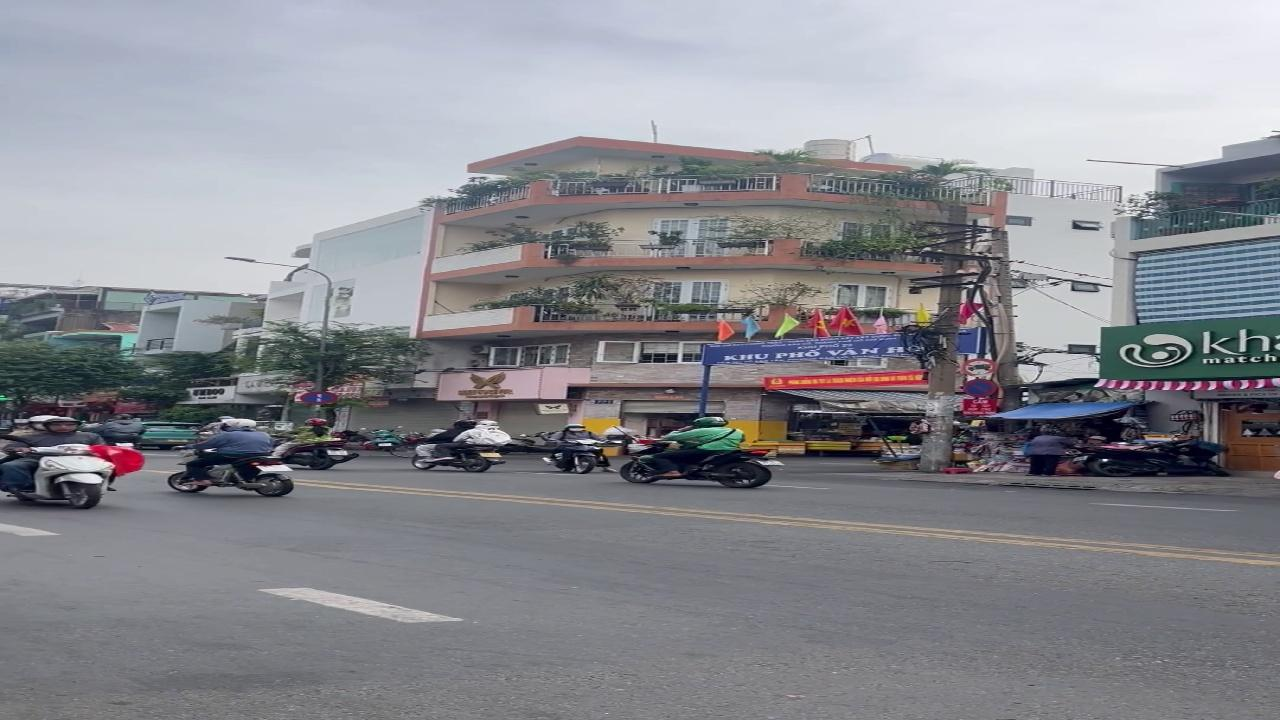Helmet: (0, 416, 104, 491), (181, 418, 273, 485), (646, 416, 744, 477), (436, 420, 509, 458), (543, 423, 603, 463), (273, 418, 334, 456), (423, 420, 475, 457)
Motor: (9, 444, 114, 508), (1072, 442, 1229, 476), (167, 455, 293, 496), (673, 449, 782, 488), (411, 444, 505, 472), (547, 439, 620, 473), (280, 439, 359, 469), (362, 427, 412, 456), (500, 432, 556, 453)
